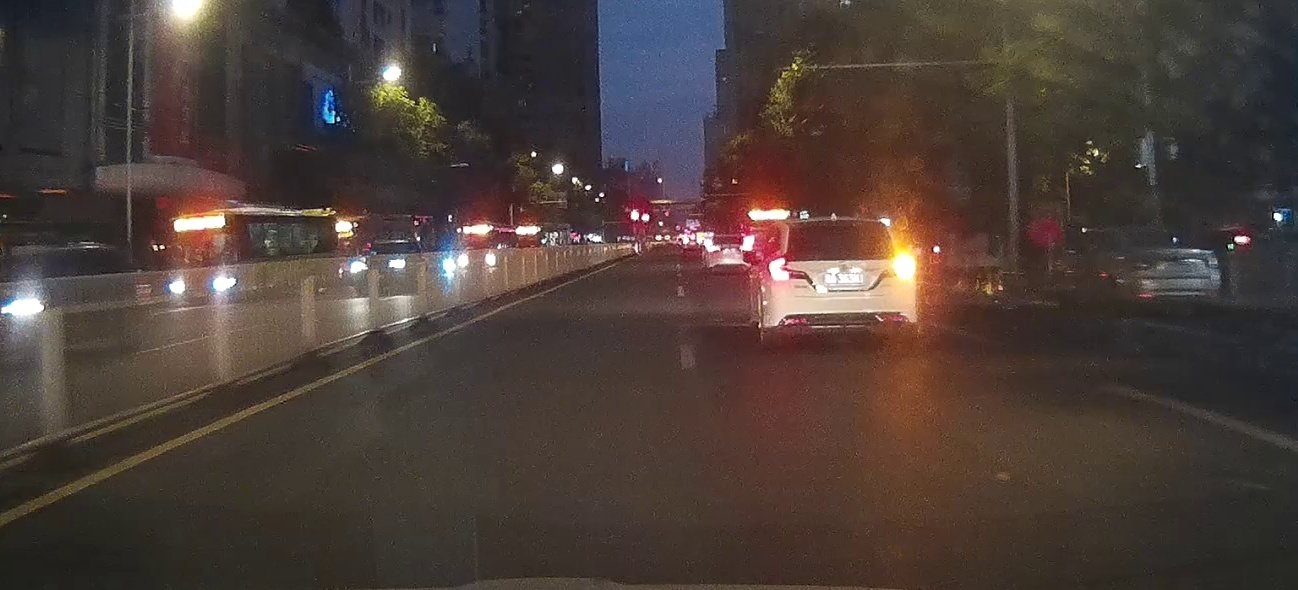L_light: (767, 256, 790, 281)
R_light: (894, 256, 916, 280)
T_light: (828, 220, 849, 225)
night-right: (759, 217, 917, 346)
